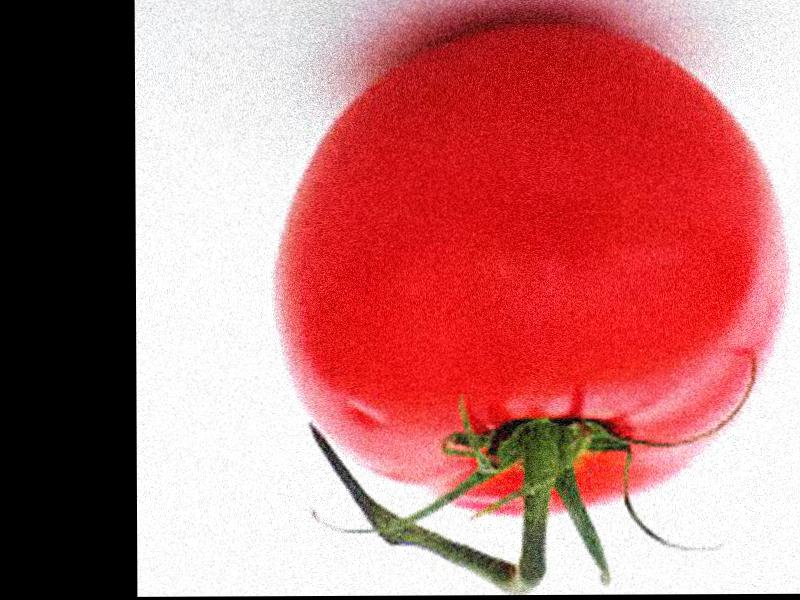Tomato: (277, 18, 795, 514)
